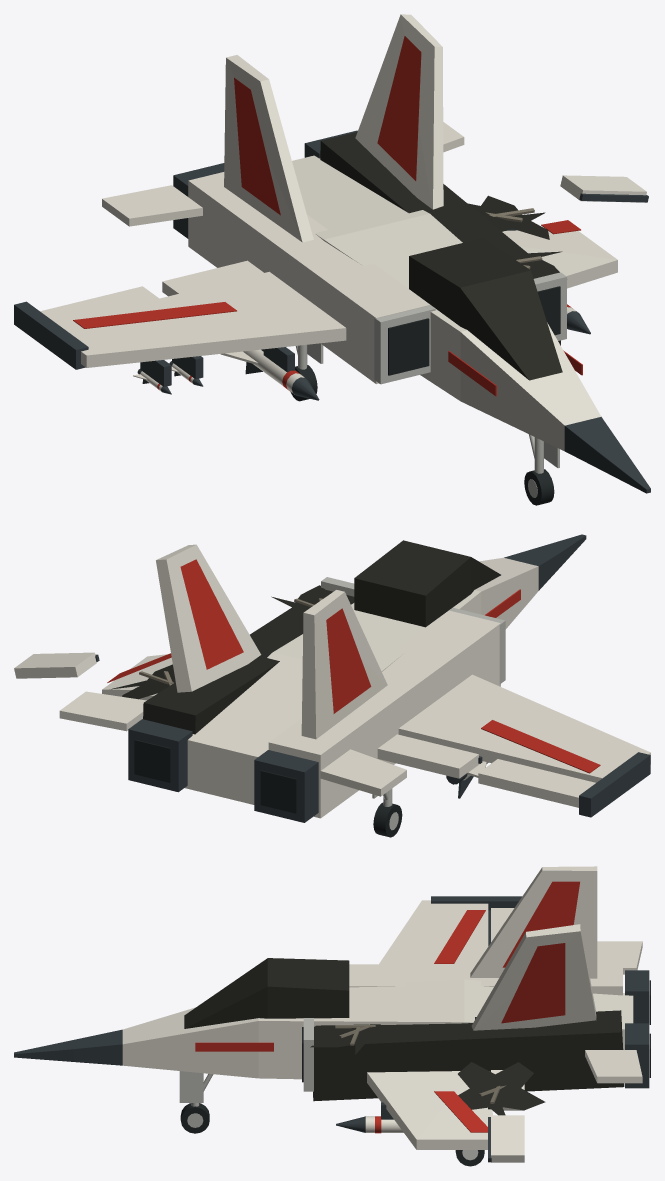
3 renders of one model, top to bottom at view 1: azimuth 30°, elevation 25°; view 2: azimuth 150°, elevation 25°; view 3: azimuth 270°, elevation 25°, orthographic. The views are drawn at different scales.
Visible parts, largest first — view 1: jet-a-damaged-fleet-armor, jet-a-damaged-fleet-damage-charred, jet-a-damaged-fleet-red, jet-a-damaged-fleet-machine, jet-a-damaged-fleet-rubber, elevator-left-fleet-armor, jet-a-damaged-fleet-edge, aileron-right-painted, aileron-left-painted, flap-left-painted, store-left-large-painted, gear-wheel-nose-0-0-painted (+1 smaller); view 2: jet-a-damaged-fleet-armor, jet-a-damaged-fleet-damage-charred, jet-a-damaged-fleet-machine, jet-a-damaged-fleet-red, aileron-left-painted, flap-left-painted, jet-a-damaged-fleet-rubber, elevator-left-fleet-armor, elevator-right-fleet-armor, aileron-right-painted, jet-a-damaged-fleet-edge, gear-wheel-left-0-0-painted (+1 smaller); view 3: jet-a-damaged-fleet-armor, jet-a-damaged-fleet-damage-charred, jet-a-damaged-fleet-red, jet-a-damaged-fleet-machine, aileron-right-painted, elevator-right-fleet-armor, elevator-left-fleet-armor, landing-gear-nose-fleet-edge, store-right-large-painted, jet-a-damaged-fleet-edge, gear-wheel-nose-0-0-painted, aileron-left-painted (+1 smaller).
Part boxes in pixels (bbox=[...]): jet-a-damaged-fleet-armor: bbox=[57, 14, 617, 451]; jet-a-damaged-fleet-damage-charred: bbox=[320, 132, 562, 380]; jet-a-damaged-fleet-red: bbox=[73, 36, 582, 396]; jet-a-damaged-fleet-machine: bbox=[14, 130, 650, 493]; jet-a-damaged-fleet-rubber: bbox=[388, 286, 560, 375]; elevator-left-fleet-armor: bbox=[102, 185, 202, 226]; jet-a-damaged-fleet-edge: bbox=[374, 272, 566, 384]; aileron-right-painted: bbox=[560, 175, 648, 202]; aileron-left-painted: bbox=[40, 286, 158, 323]; flap-left-painted: bbox=[162, 260, 263, 296]; store-left-large-painted: bbox=[220, 349, 319, 400]; gear-wheel-nose-0-0-painted: bbox=[524, 469, 554, 505]; jet-a-damaged-fleet-armor: bbox=[102, 544, 650, 818]; jet-a-damaged-fleet-damage-charred: bbox=[111, 540, 500, 734]; jet-a-damaged-fleet-machine: bbox=[128, 534, 650, 822]; jet-a-damaged-fleet-red: bbox=[107, 559, 600, 773]; aileron-left-painted: bbox=[478, 759, 595, 807]; flap-left-painted: bbox=[377, 734, 482, 778]; jet-a-damaged-fleet-rubber: bbox=[134, 739, 296, 813]; elevator-left-fleet-armor: bbox=[320, 749, 406, 796]; elevator-right-fleet-armor: bbox=[59, 691, 146, 731]; aileron-right-painted: bbox=[14, 652, 99, 678]; jet-a-damaged-fleet-edge: bbox=[321, 577, 505, 684]; gear-wheel-left-0-0-painted: bbox=[373, 802, 402, 837]; jet-a-damaged-fleet-armor: bbox=[122, 866, 633, 1149]; jet-a-damaged-fleet-damage-charred: bbox=[184, 958, 624, 1115]; jet-a-damaged-fleet-red: bbox=[195, 881, 579, 1132]; jet-a-damaged-fleet-machine: bbox=[14, 896, 649, 1119]; aileron-right-painted: bbox=[488, 1115, 524, 1162]; elevator-right-fleet-armor: bbox=[585, 1050, 642, 1083]; elevator-left-fleet-armor: bbox=[597, 941, 642, 974]; landing-gear-nose-fleet-edge: bbox=[179, 1071, 213, 1106]; store-right-large-painted: bbox=[336, 1116, 403, 1133]; jet-a-damaged-fleet-edge: bbox=[303, 1018, 313, 1091]; gear-wheel-nose-0-0-painted: bbox=[180, 1103, 209, 1133]; aileron-left-painted: bbox=[488, 908, 514, 945].
Size of the model in its own units: 56.65 by 26.34 by 62.11.
